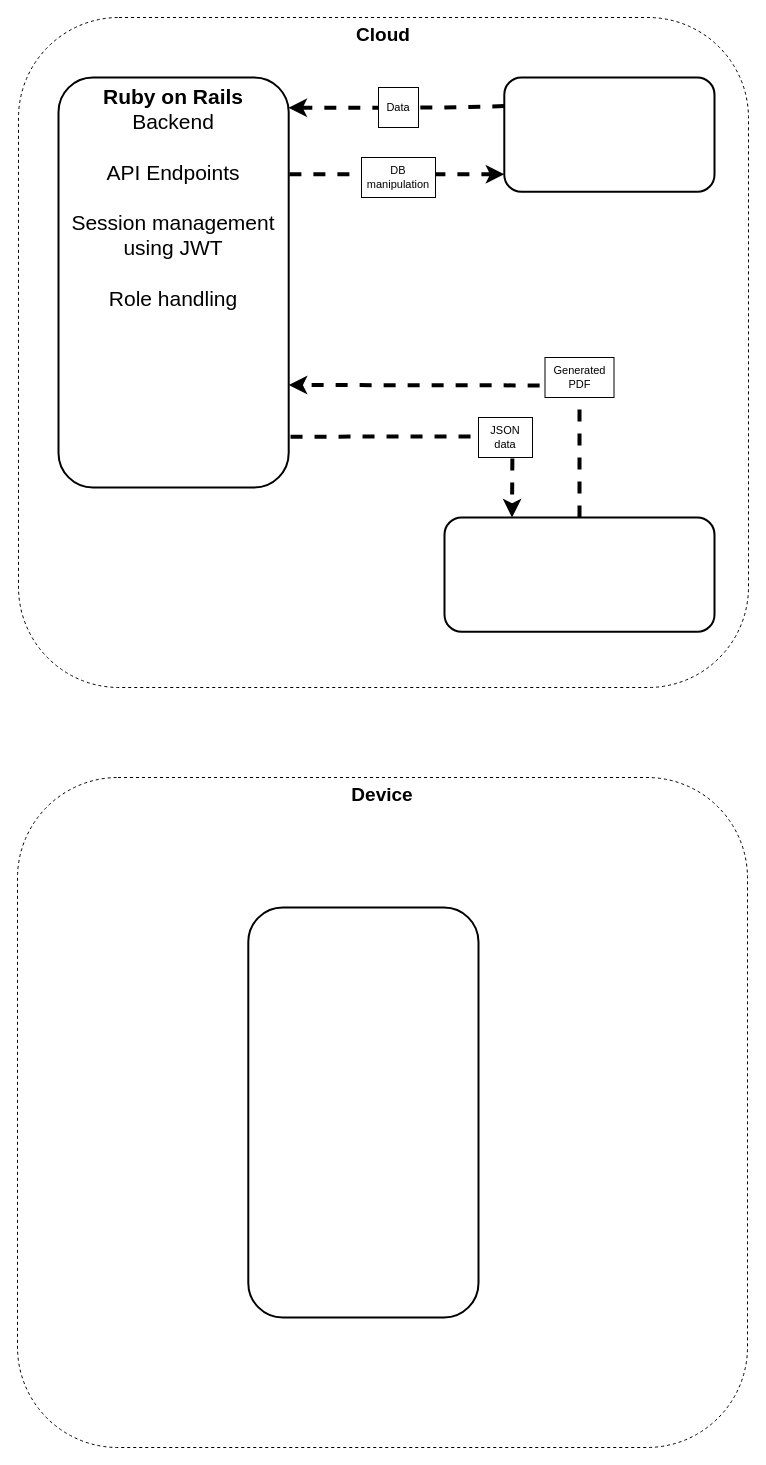
Some shapes in this 766 by 1465 pixel diagram are drawn without their labels. Each missing label, with the centre of its shape:
Java pdfGenerator Isolated Microservice generates pdf out of JSON: point (579, 574)
Postgres SQL Database Data storage: point (609, 134)
ReactJS Fronted: point (363, 1112)
